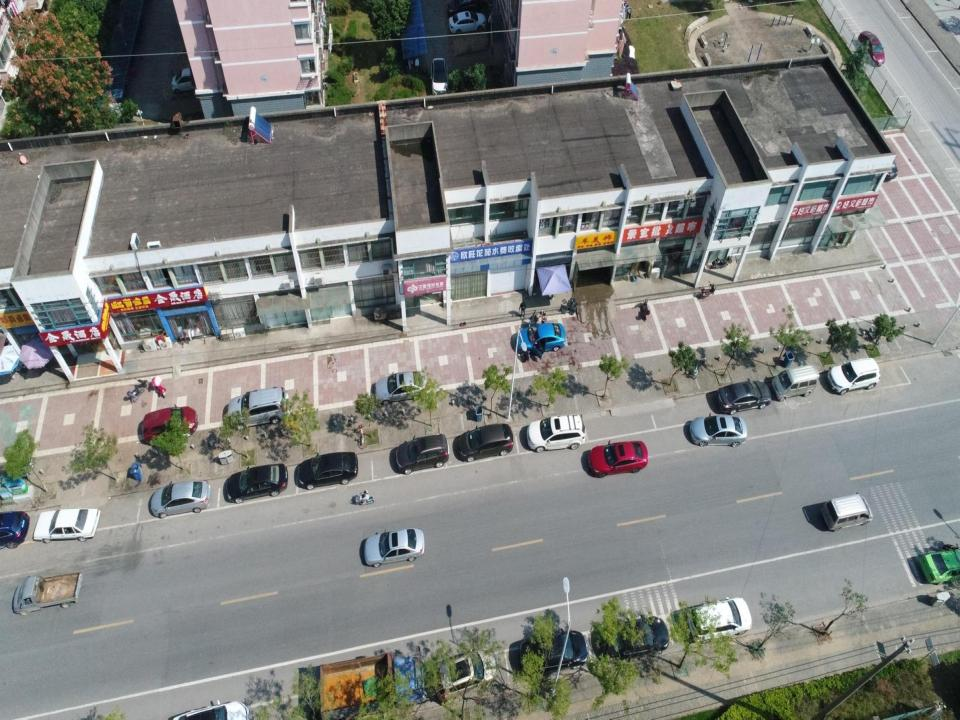car: (433, 648, 498, 706), (519, 628, 589, 676), (686, 596, 752, 644), (604, 614, 669, 662), (226, 386, 289, 431), (226, 463, 288, 505), (141, 403, 199, 447), (363, 528, 425, 568), (33, 507, 100, 544), (526, 413, 586, 453), (588, 439, 648, 479), (150, 480, 211, 519), (297, 451, 358, 490), (457, 422, 514, 463), (396, 433, 450, 475), (715, 377, 772, 415), (827, 357, 881, 395), (688, 414, 748, 448), (374, 370, 427, 406), (516, 319, 565, 355), (172, 698, 250, 718), (918, 548, 959, 586), (0, 510, 30, 549), (171, 67, 205, 96), (858, 31, 885, 67), (449, 10, 487, 34), (878, 144, 898, 180), (446, 0, 489, 16)
truck: (319, 650, 427, 719), (13, 570, 83, 616)
van: (820, 493, 874, 533), (772, 363, 820, 402), (430, 58, 448, 96)
